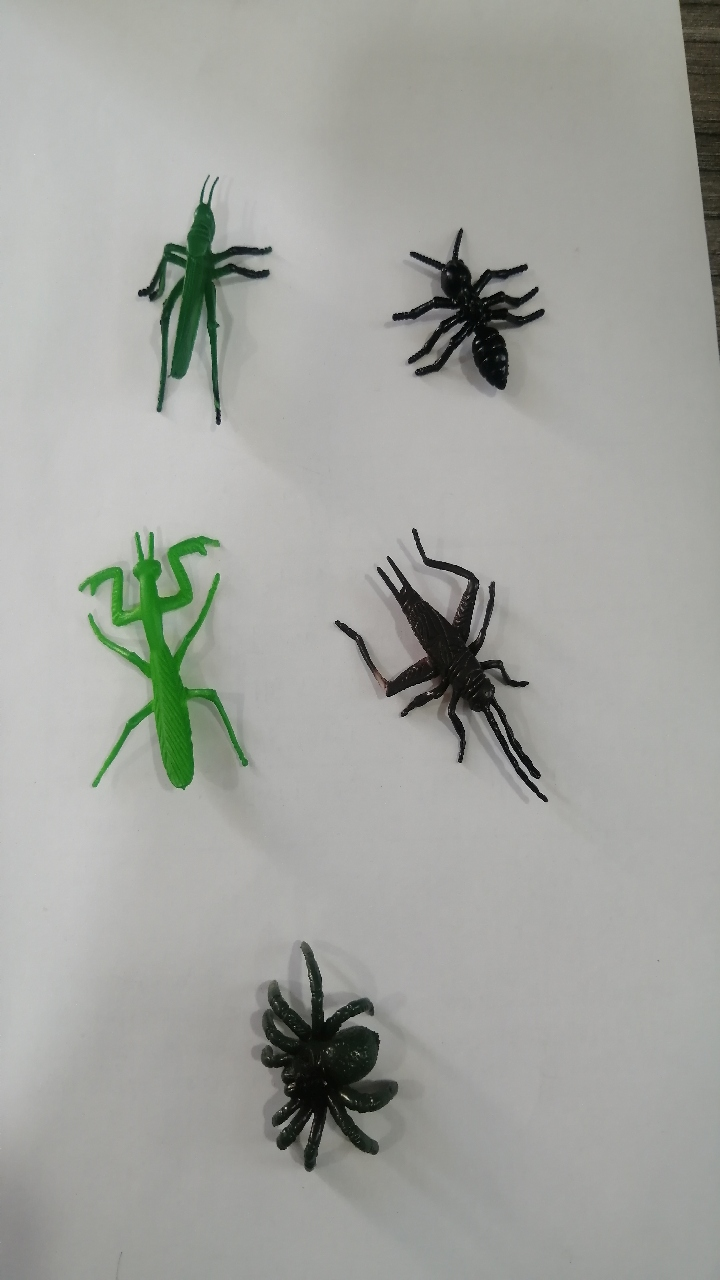intruso: (304, 499, 583, 849), (41, 499, 278, 832), (215, 903, 432, 1208), (108, 140, 277, 463), (361, 195, 575, 432)
